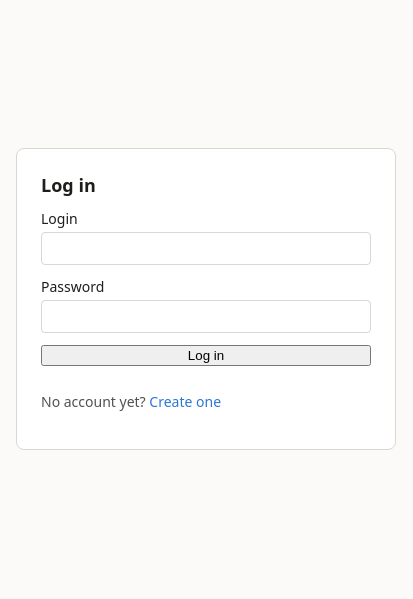
Test: Create an account › takes a name, a login and a password, and says what a login is
The width and height of the screenshot is (413, 599).
What coordinates should you click on to do the following:
click the button "Create one"
I would click on:
 (185, 402)
Its box is x1=149 y1=392 x2=221 y2=411.
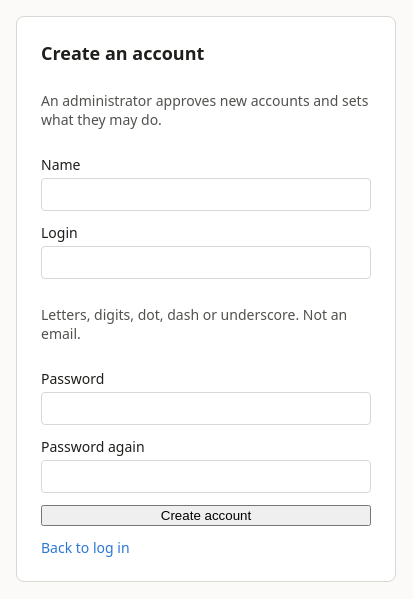
Expected: the field labelled "Login" is shown, x1=41 y1=246 x2=371 y2=279
Expected: the text "Letters, digits, dot, dash or underscore. Not an email." is shown, x1=41 y1=305 x2=371 y2=343
